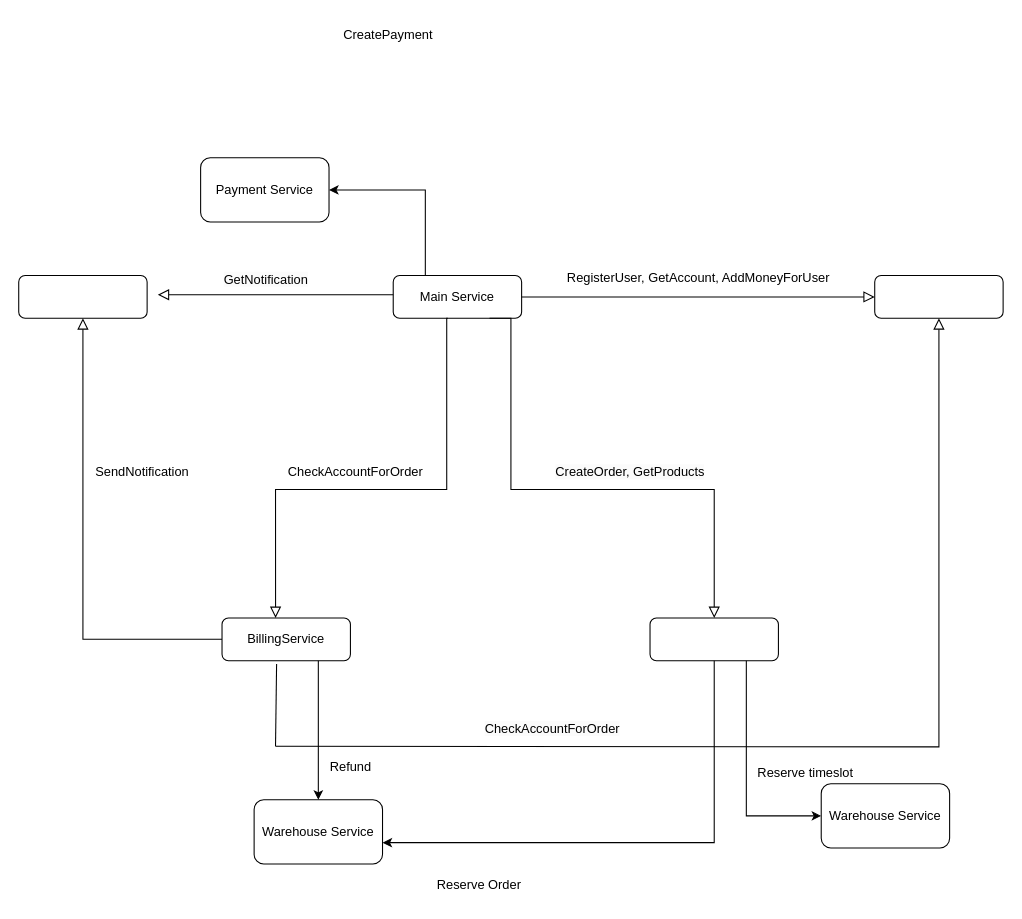
Image size: 1022x919. Some labels were removed from this diagram. Here are the shapes that lost their labels. From the top down, the centre of each, then its label:
point 82,296: NotificationService
point 938,296: UserService
point 713,639: OrderProductService
